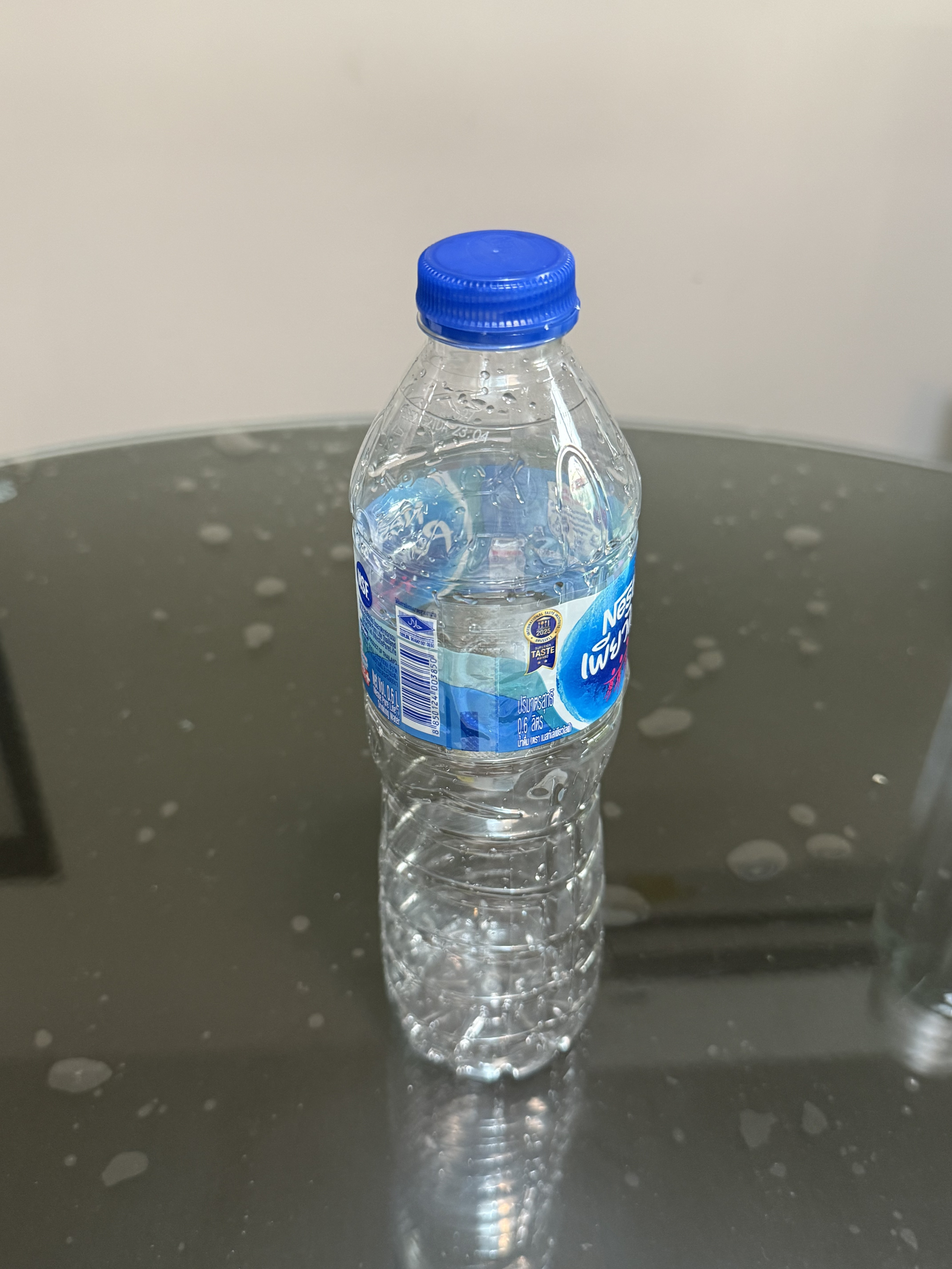closed_cap: (413, 226, 582, 348)
